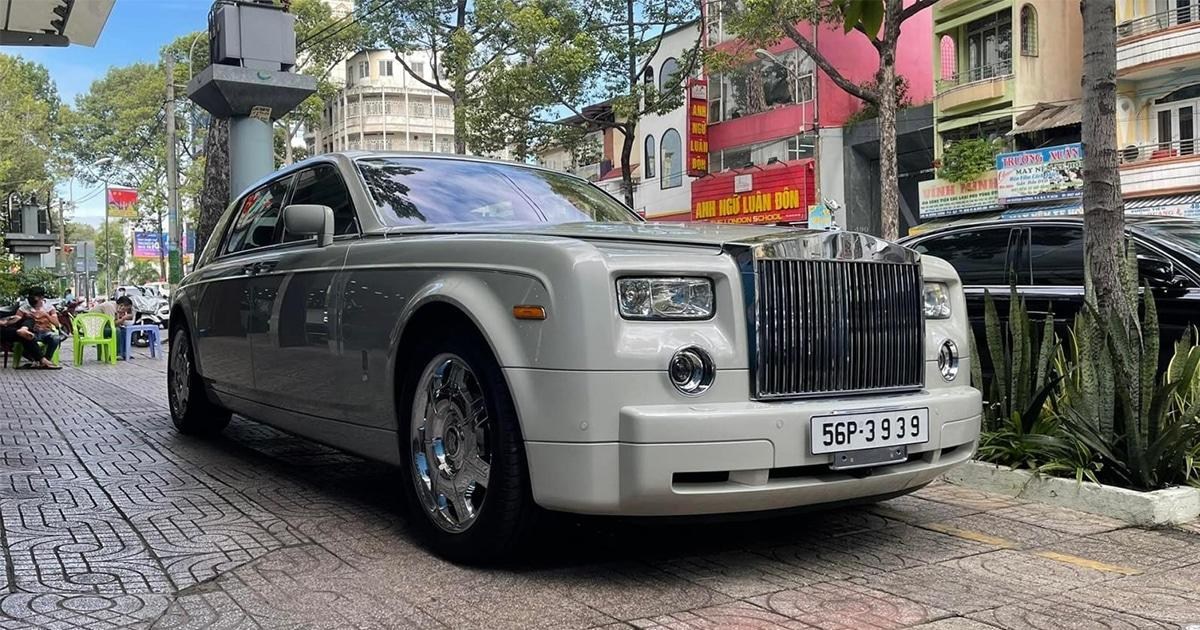numplate: (805, 402, 932, 457)
